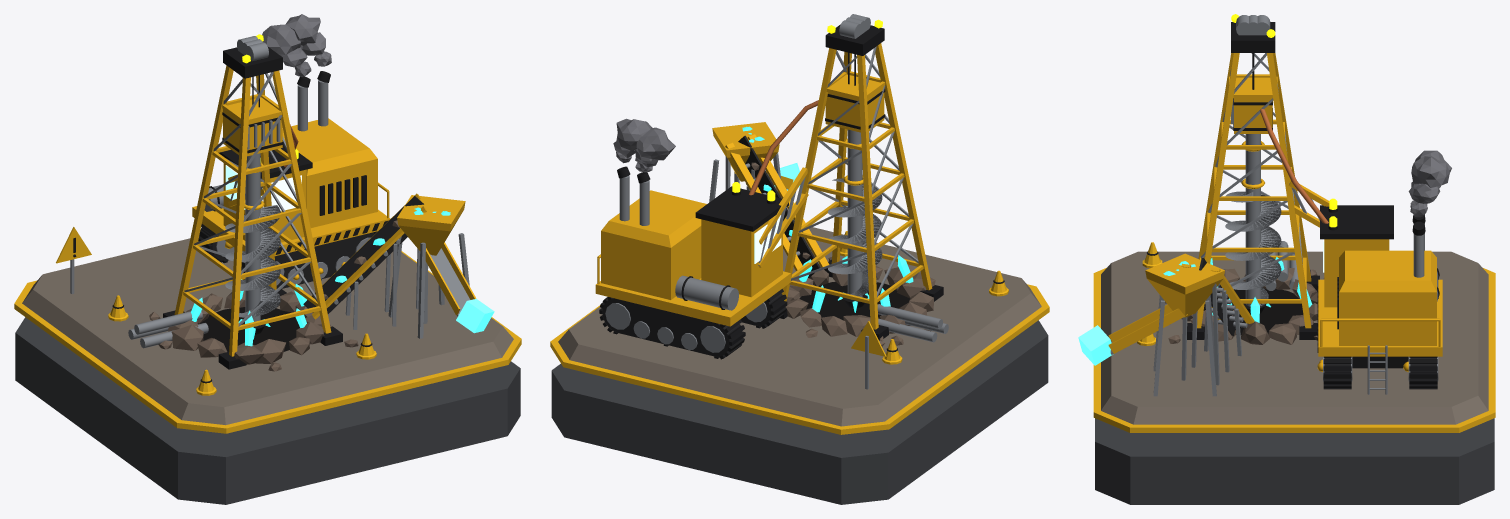
The model's file is TitanDrillMine_Roblox.fbx.
3 renders of one model, left to right at view 1: azimuth 30°, elevation 25°; view 2: azimuth 150°, elevation 25°; view 3: azimuth 270°, elevation 25°, orthographic. The views are drawn at different scales.
Visible parts, largest first — view 1: QuarryGravel, TreadPlate, RigYellow, RigSteel, HazardYellow, HazardBlack, QuarryRock, TrackRubber, ExhaustSmoke, PitDark, TitanCrystal, TitanOre (+1 smaller); view 2: TreadPlate, RigYellow, QuarryGravel, RigSteel, HazardYellow, HazardBlack, QuarryRock, TrackRubber, ExhaustSmoke, PitDark, TitanCrystal, CopperPipe; view 3: QuarryGravel, TreadPlate, RigYellow, RigSteel, HazardBlack, HazardYellow, QuarryRock, ExhaustSmoke, PitDark, TitanOre, TrackRubber, CopperPipe (+1 smaller).
Boxes of the visible parts, box(x1,y1,x2,y2) form: QuarryGravel: box(22, 238, 513, 425); TreadPlate: box(15, 317, 520, 504); RigYellow: box(174, 65, 476, 356); RigSteel: box(70, 36, 470, 348); HazardYellow: box(14, 227, 521, 433); HazardBlack: box(73, 46, 388, 383); QuarryRock: box(149, 220, 399, 371); TrackRubber: box(199, 196, 423, 313); ExhaustSmoke: box(262, 14, 331, 76); PitDark: box(198, 307, 299, 351); TitanCrystal: box(191, 207, 450, 346); TitanOre: box(456, 298, 494, 333); TreadPlate: box(551, 320, 1048, 504); RigYellow: box(595, 43, 932, 329); QuarryGravel: box(558, 227, 1041, 426); RigSteel: box(605, 14, 948, 389); HazardYellow: box(550, 231, 1049, 434); HazardBlack: box(599, 24, 1004, 359); QuarryRock: box(751, 162, 935, 346); TrackRubber: box(602, 135, 820, 356); ExhaustSmoke: box(613, 118, 675, 172); PitDark: box(799, 281, 910, 320); TitanCrystal: box(742, 126, 913, 312); CopperPipe: box(749, 100, 818, 195); QuarryGravel: box(1101, 251, 1488, 424); TreadPlate: box(1095, 418, 1494, 504); RigYellow: box(1108, 53, 1442, 371); RigSteel: box(1110, 15, 1438, 396); HazardBlack: box(1147, 22, 1439, 389); HazardYellow: box(1093, 242, 1495, 432); QuarryRock: box(1163, 268, 1324, 344); ExhaustSmoke: box(1408, 150, 1451, 217); PitDark: box(1203, 288, 1303, 334); TitanOre: box(1078, 325, 1113, 365); TrackRubber: box(1199, 258, 1436, 378); CopperPipe: box(1260, 108, 1328, 223).
Bounding box in the file's own units: 1358 × 1432 × 1410.
